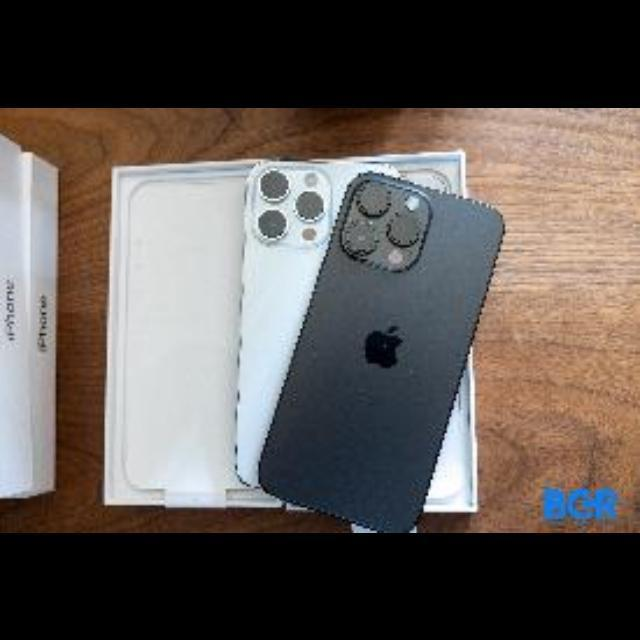PhoneUse: (259, 172, 505, 530), (236, 162, 398, 483)
